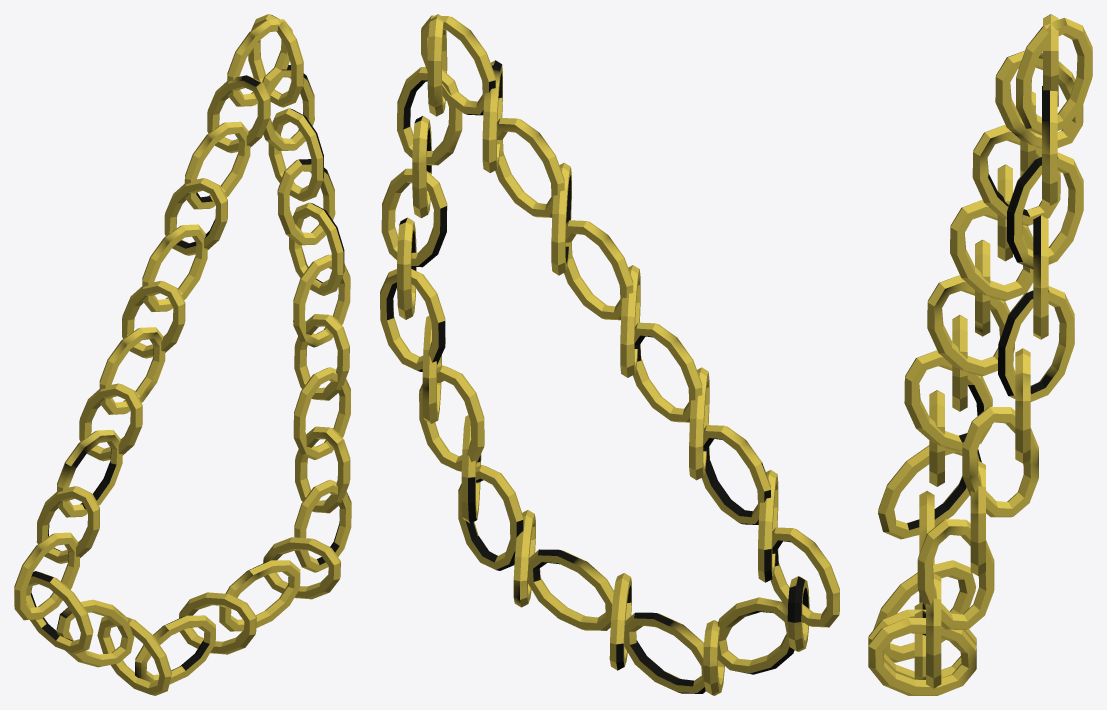
File: ValveChain.fbx
3 renders of one model, left to right at view 1: azimuth 30°, elevation 25°; view 2: azimuth 150°, elevation 25°; view 3: azimuth 270°, elevation 25°, orthographic. The views are drawn at different scales.
Parts seen in each view (by area): view 1: Link11__SafetyYellow, Link07__SafetyYellow, Link17__SafetyYellow, Link03__SafetyYellow, Link09__SafetyYellow, Link05__SafetyYellow, Link21__SafetyYellow, Link12__SafetyYellow, Link14__SafetyYellow, Link24__SafetyYellow, Link26__SafetyYellow, Link15__SafetyYellow (+16 smaller); view 2: Link17__SafetyYellow, Link23__SafetyYellow, Link15__SafetyYellow, Link07__SafetyYellow, Link09__SafetyYellow, Link05__SafetyYellow, Link03__SafetyYellow, Link11__SafetyYellow, Link25__SafetyYellow, Link13__SafetyYellow, Link21__SafetyYellow, Link19__SafetyYellow (+16 smaller); view 3: Link28__SafetyYellow, Link26__SafetyYellow, Link24__SafetyYellow, Link18__SafetyYellow, Link22__SafetyYellow, Link20__SafetyYellow, Link10__SafetyYellow, Link06__SafetyYellow, Link08__SafetyYellow, Link12__SafetyYellow, Link02__SafetyYellow, Link14__SafetyYellow (+15 smaller).
Part boxes in pixels (left/top/right/bottom): Link11__SafetyYellow: left=14, top=532, right=79, bottom=620; Link07__SafetyYellow: left=99, top=327, right=165, bottom=414; Link17__SafetyYellow: left=219, top=560, right=300, bottom=631; Link03__SafetyYellow: left=184, top=121, right=250, bottom=209; Link09__SafetyYellow: left=57, top=430, right=122, bottom=517; Link05__SafetyYellow: left=142, top=224, right=207, bottom=311; Link21__SafetyYellow: left=293, top=367, right=350, bottom=459; Link12__SafetyYellow: left=26, top=571, right=93, bottom=653; Link14__SafetyYellow: left=97, top=616, right=171, bottom=695; Link24__SafetyYellow: left=289, top=202, right=344, bottom=295; Link26__SafetyYellow: left=268, top=108, right=323, bottom=201; Link15__SafetyYellow: left=135, top=615, right=215, bottom=684; Link17__SafetyYellow: left=528, top=549, right=613, bottom=630; Link23__SafetyYellow: left=380, top=269, right=445, bottom=371; Link15__SafetyYellow: left=624, top=612, right=705, bottom=693; Link07__SafetyYellow: left=633, top=322, right=702, bottom=422; Link09__SafetyYellow: left=701, top=425, right=770, bottom=524; Link05__SafetyYellow: left=564, top=220, right=633, bottom=320; Link03__SafetyYellow: left=495, top=118, right=564, bottom=217; Link11__SafetyYellow: left=770, top=527, right=839, bottom=627; Link25__SafetyYellow: left=381, top=168, right=447, bottom=267; Link13__SafetyYellow: left=717, top=597, right=794, bottom=674; Link21__SafetyYellow: left=419, top=365, right=484, bottom=471; Link19__SafetyYellow: left=458, top=465, right=523, bottom=570; Link28__SafetyYellow: left=1016, top=18, right=1092, bottom=135; Link26__SafetyYellow: left=1007, top=152, right=1083, bottom=269; Link24__SafetyYellow: left=998, top=286, right=1074, bottom=401; Link18__SafetyYellow: left=868, top=618, right=976, bottom=695; Link22__SafetyYellow: left=962, top=407, right=1038, bottom=517; Link20__SafetyYellow: left=917, top=519, right=994, bottom=629; Link10__SafetyYellow: left=904, top=350, right=992, bottom=451; Link06__SafetyYellow: left=950, top=200, right=1033, bottom=301; Link08__SafetyYellow: left=927, top=275, right=1014, bottom=376; Link12__SafetyYellow: left=878, top=445, right=981, bottom=539; Link02__SafetyYellow: left=995, top=50, right=1083, bottom=148; Link14__SafetyYellow: left=873, top=560, right=975, bottom=662.
Bounding box in the file's own units: 0.6135 × 0.9409 × 0.2512.
